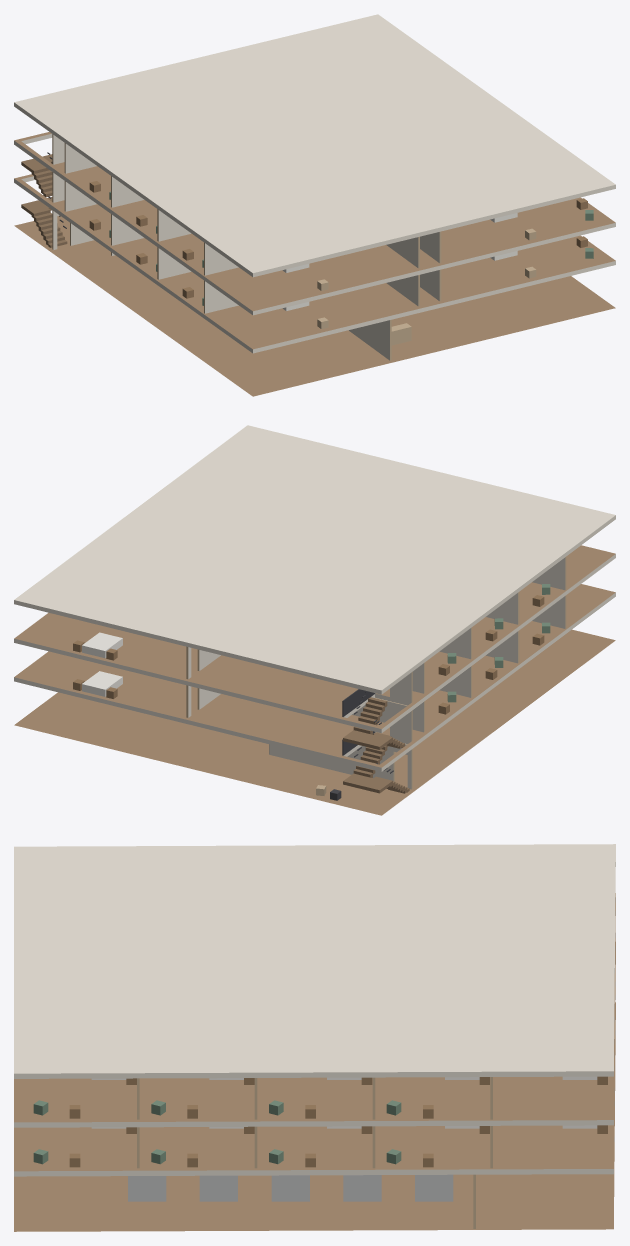
The model's file is interior.glb.
3 renders of one model, top to bottom at view 1: azimuth 30°, elevation 25°; view 2: azimuth 150°, elevation 25°; view 3: azimuth 270°, elevation 25°, orthographic. The views are drawn at different scales.
Parts seen in each view (by area): view 1: slabs, partitions, stair, coarse-s2, coarse-s1; view 2: slabs, partitions, stair, coarse-s1, coarse-s2; view 3: slabs, coarse-s0, coarse-s1, coarse-s2, partitions.
Part boxes in pixels (<box>): slabs: <box>14,14,615,396</box>; partitions: <box>52,134,441,360</box>; stair: <box>21,152,67,247</box>; coarse-s2: <box>89,181,593,290</box>; coarse-s1: <box>89,219,593,329</box>; slabs: <box>14,425,615,815</box>; partitions: <box>186,557,566,789</box>; stair: <box>342,689,409,793</box>; coarse-s1: <box>73,622,550,714</box>; coarse-s2: <box>73,584,550,675</box>; slabs: <box>14,844,615,1231</box>; coarse-s0: <box>128,1174,453,1201</box>; coarse-s1: <box>33,1125,607,1167</box>; coarse-s2: <box>33,1076,607,1118</box>; partitions: <box>137,1077,492,1228</box>.
Bounding box in the file's own units: 24.21 × 7.8 × 26.84.
